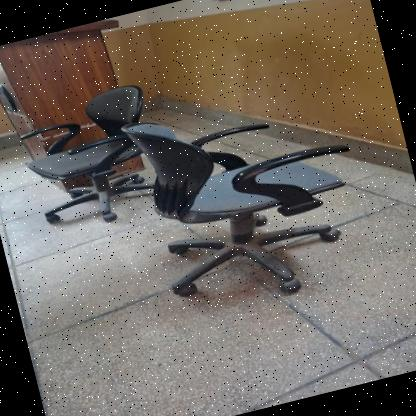chair: (99, 63, 390, 333), (3, 66, 184, 243)
